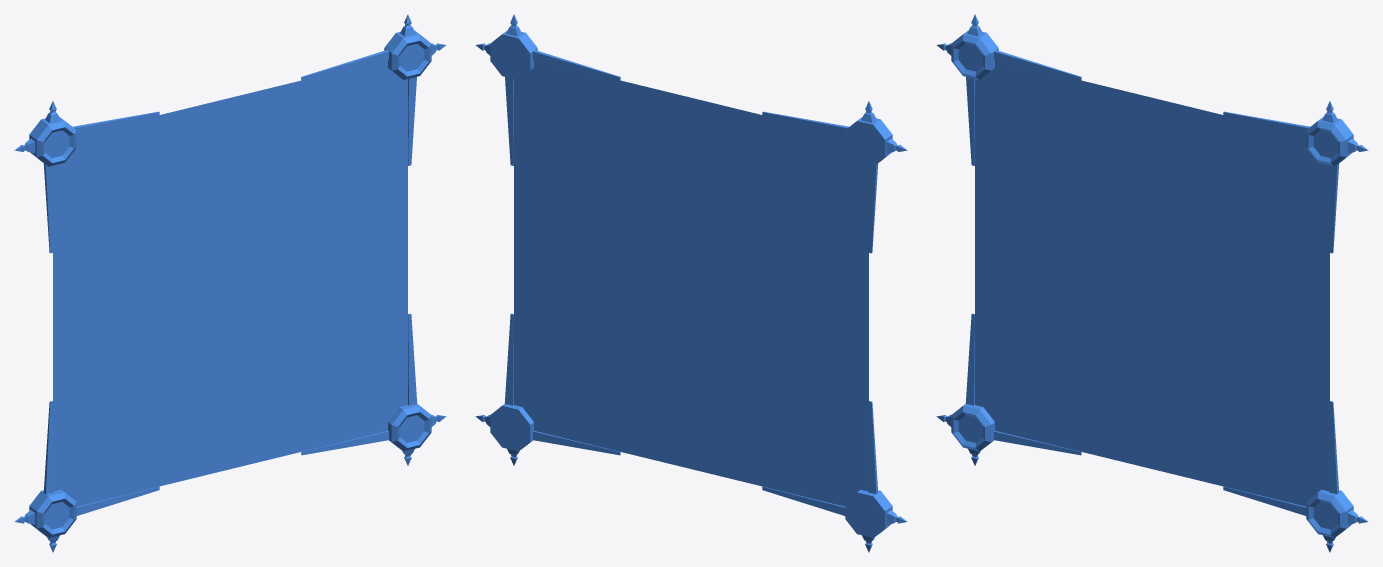
The model's file is Mirror.FBX.
The picture shows the model from 3 angles, left to right: view 1: azimuth 30°, elevation 25°; view 2: azimuth 150°, elevation 25°; view 3: azimuth 330°, elevation 25°; orthographic projection.
Parts seen in each view (by area): view 1: Mirror004, Conner002; view 2: Mirror004, Conner002; view 3: Mirror004, Conner002.
Boxes of the visible parts, <box> form: Mirror004: <box>53,60,407,506</box>; Conner002: <box>14,14,446,552</box>; Mirror004: <box>514,60,868,506</box>; Conner002: <box>475,14,907,552</box>; Mirror004: <box>975,60,1329,506</box>; Conner002: <box>936,14,1368,552</box>.
Size of the model in its own units: 100 by 100 by 3.8.
